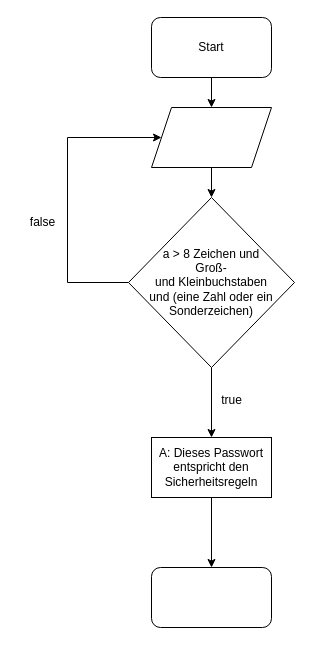
This 312x645 diagram has some shape labels left out. The shapes that lost their labels are listed below. From the top down, each one's centre as x and y in pixels, then its label:
At (211,137): "E: Passwort = a".
At (211,597): "Ende".
